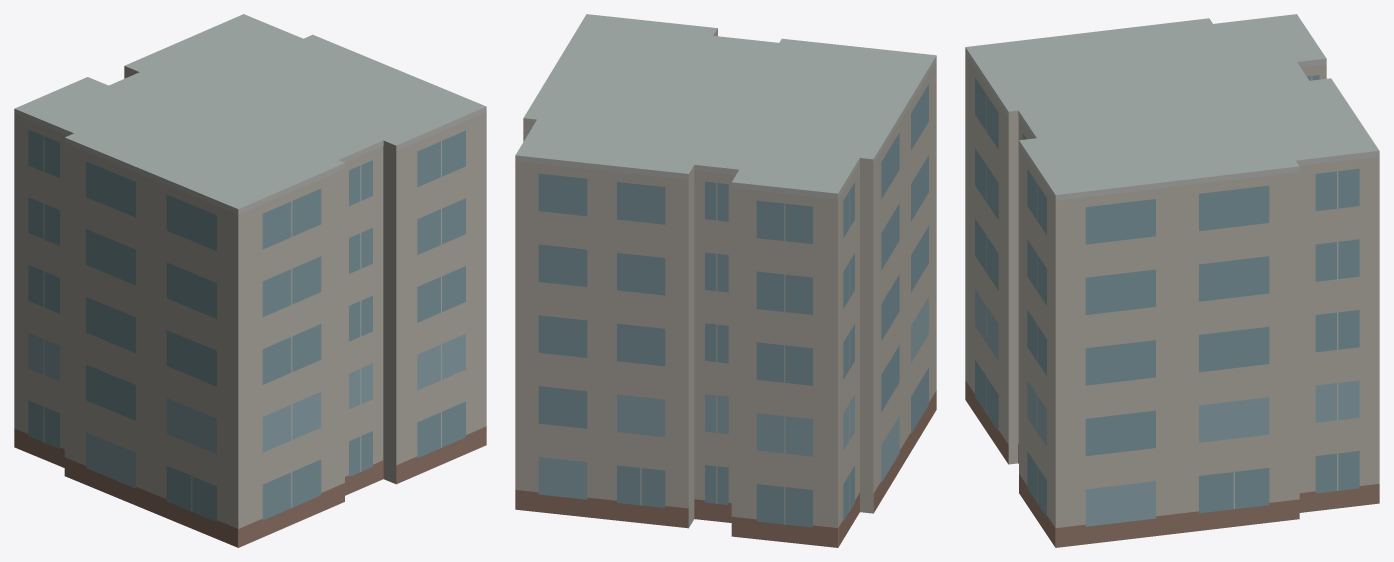
Rendered from survey-upis-32919572.glb.
3 renders of one model, left to right at view 1: azimuth 30°, elevation 25°; view 2: azimuth 150°, elevation 25°; view 3: azimuth 270°, elevation 25°, orthographic. The views are drawn at different scales.
Visible parts, largest first — view 1: survey-upis-32919572.tmp; view 2: survey-upis-32919572.tmp; view 3: survey-upis-32919572.tmp.
Part boxes in pixels (box(x1,y1,x2,y2)): survey-upis-32919572.tmp: box(14, 14, 486, 547); survey-upis-32919572.tmp: box(515, 14, 936, 547); survey-upis-32919572.tmp: box(965, 14, 1379, 547).
Bounding box in the file's own units: 16.8 × 15.25 × 16.23.
